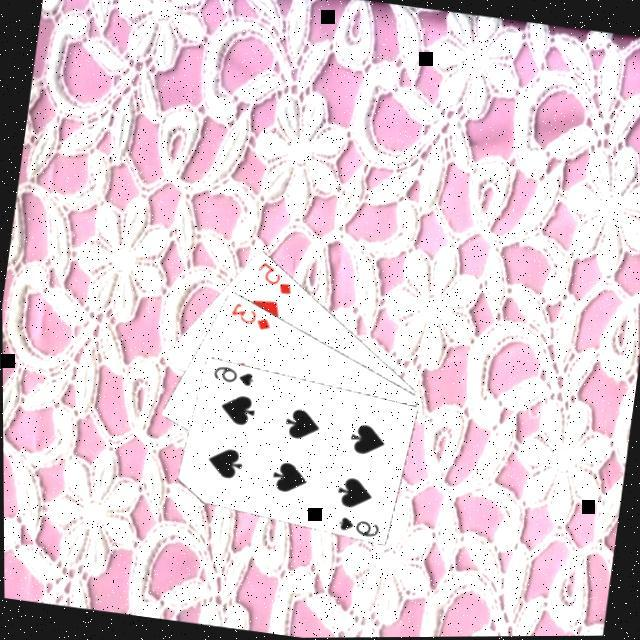3D: (223, 296, 274, 333)
5D: (248, 256, 296, 298)
6S: (330, 512, 380, 540), (207, 360, 256, 388)
